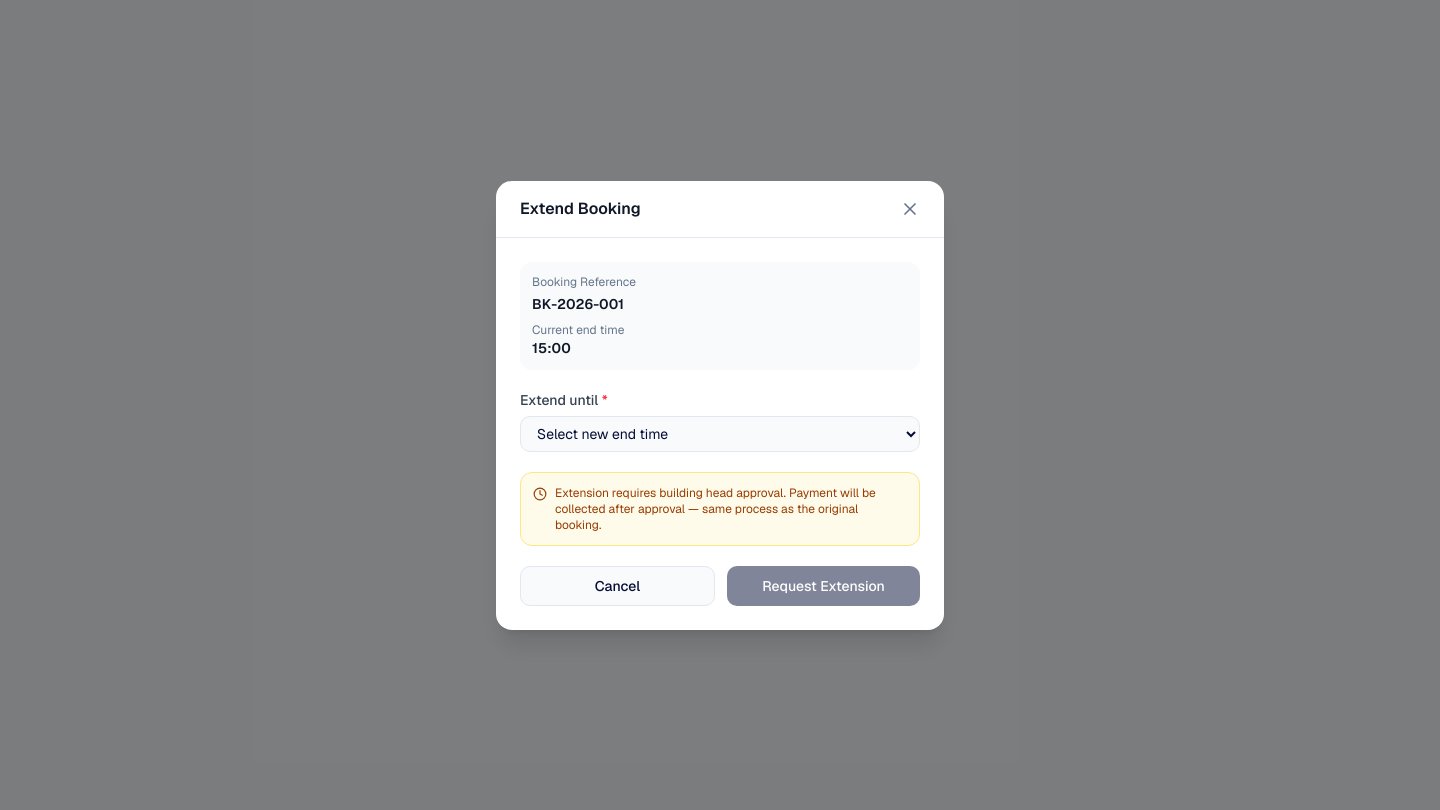
Test case: ExtendBookingModal › submits extension request with correct payload
# Select end time
Select "4:00 PM" in the dropdown: (720, 434) [520,416,920,452]
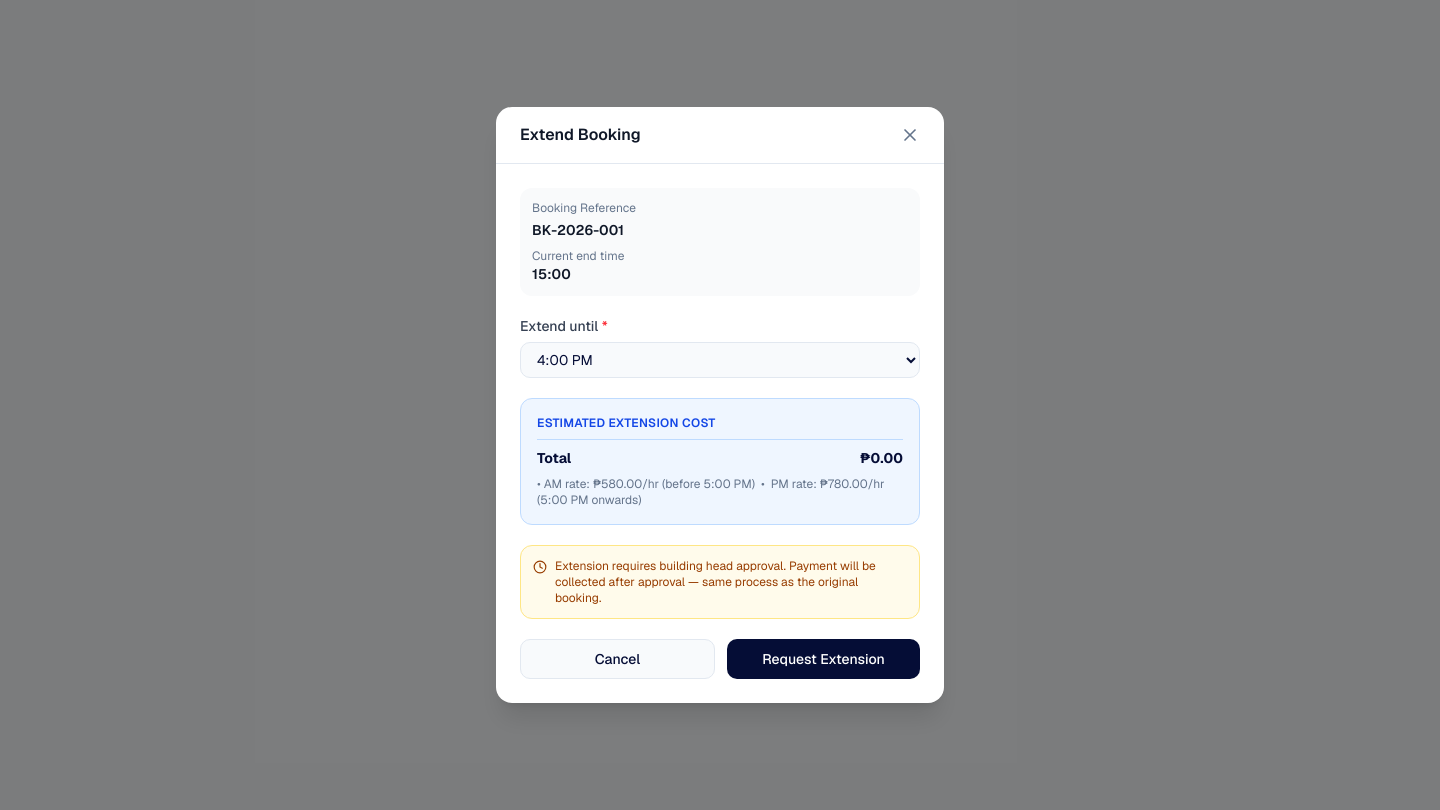
# Click submit
Click the button "Request Extension": (824, 659) [727,639,920,679]
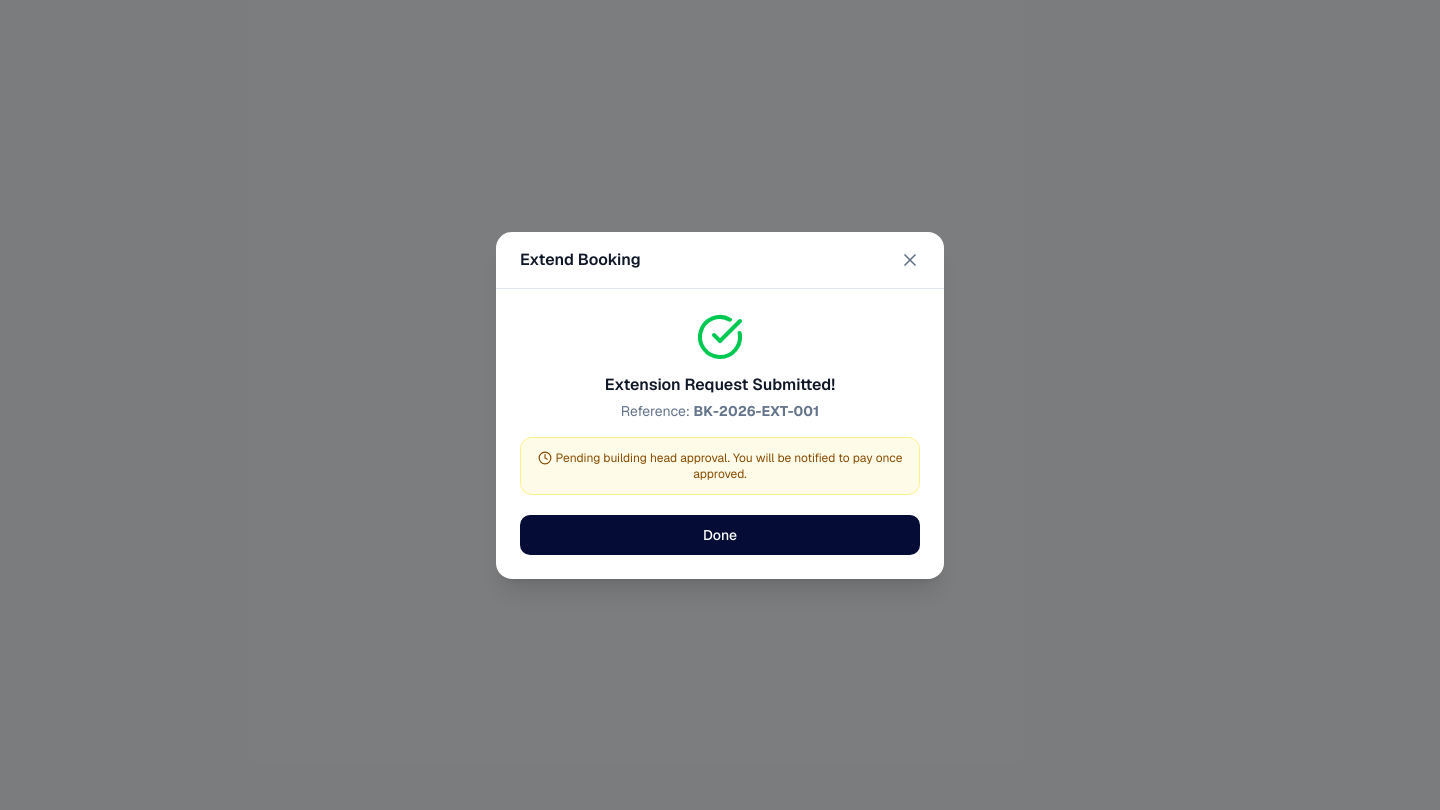
Result: the heading "Extension Request Submitted!" is shown at [605,374,835,394]
Result: the text "BK-2026-EXT-001" is shown at [694,402,819,420]
